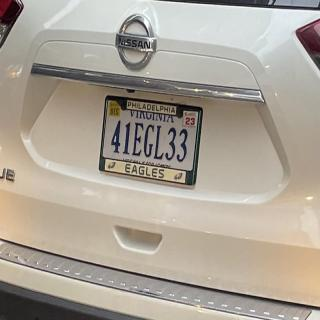license: (99, 97, 205, 187)
